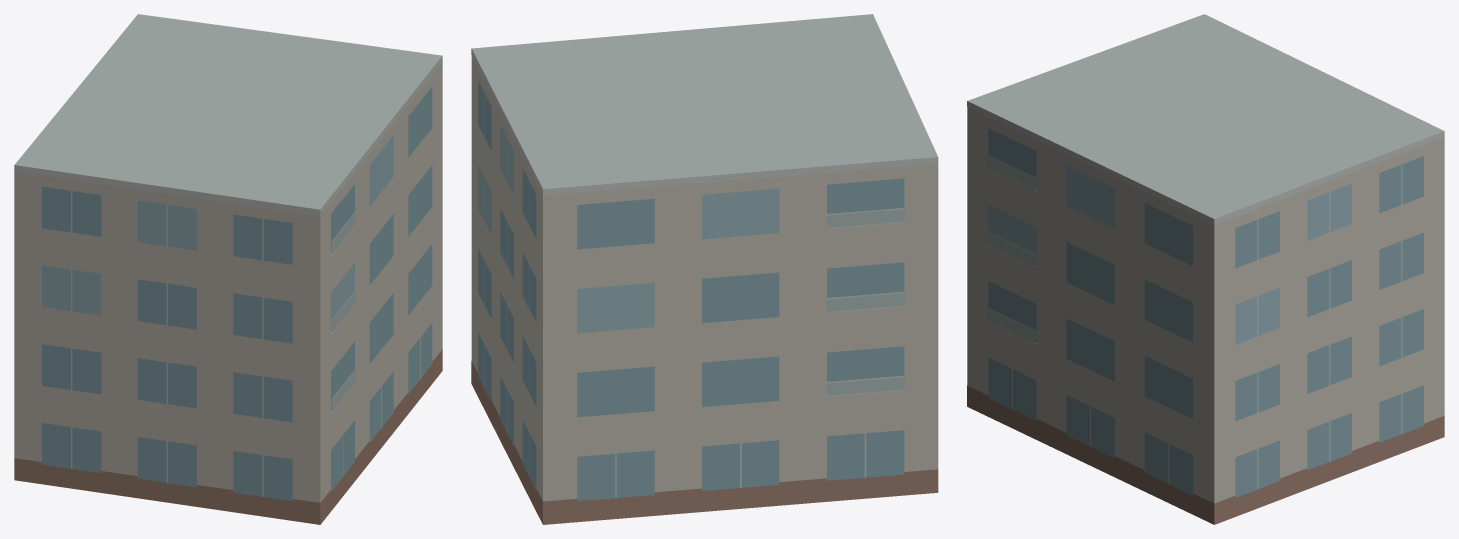
Rendered from survey-upis-32671341.glb.
3 views of the same model, side by side, from view 1: azimuth 30°, elevation 25°; view 2: azimuth 150°, elevation 25°; view 3: azimuth 270°, elevation 25° (orthographic). The views are drawn at different scales.
Visible parts, largest first — view 1: survey-upis-32671341.tmp; view 2: survey-upis-32671341.tmp; view 3: survey-upis-32671341.tmp.
Boxes of the visible parts, left/top/right/bottom form: survey-upis-32671341.tmp: left=14, top=14, right=442, bottom=524; survey-upis-32671341.tmp: left=471, top=14, right=938, bottom=524; survey-upis-32671341.tmp: left=967, top=14, right=1444, bottom=524.
Size of the model in its own units: 17.56 by 12.2 by 17.27.
